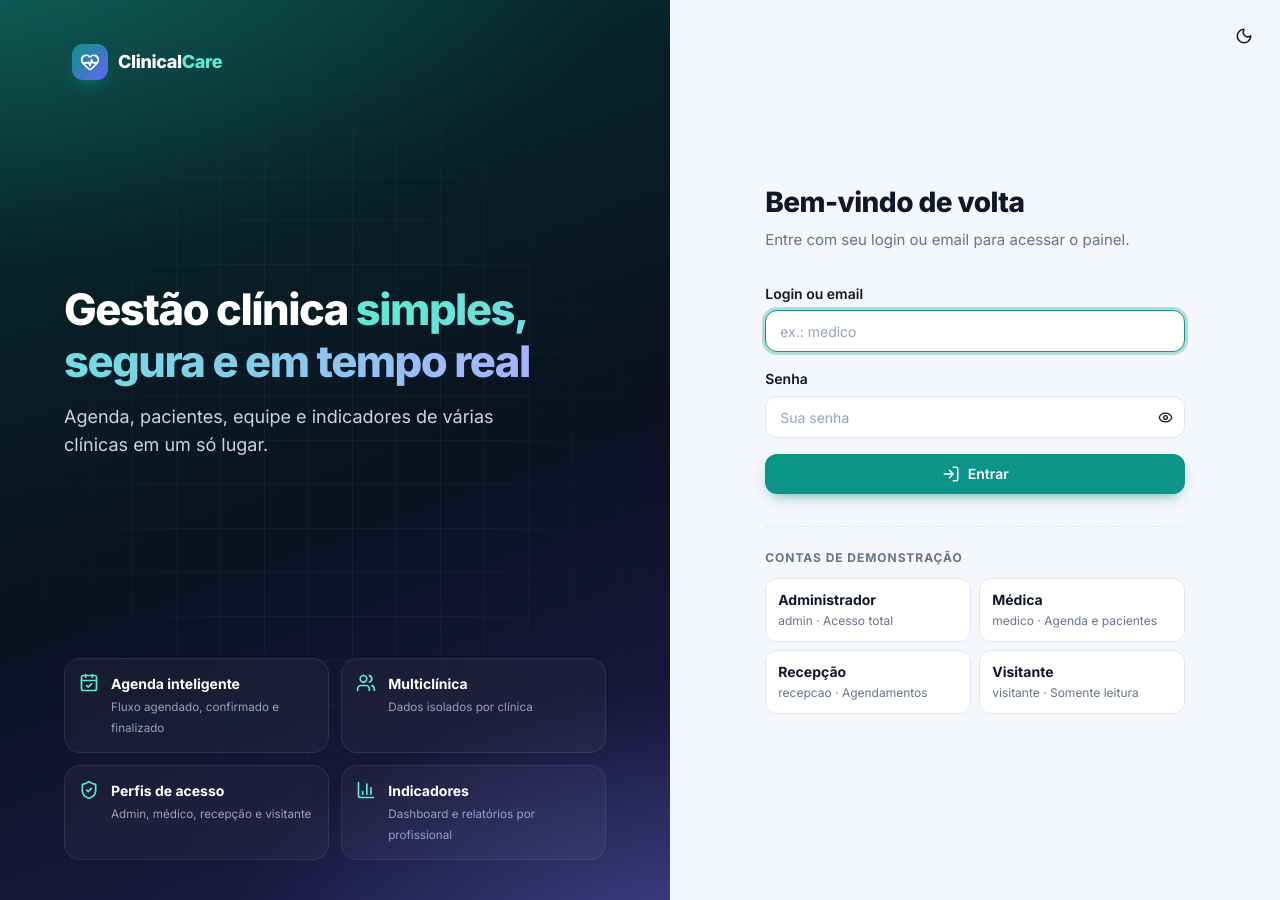
login › mostra o erro da API para credenciais inválidas
Type "medico" into the field labelled "Login ou email" at (975, 331), box [765,310,1185,352]
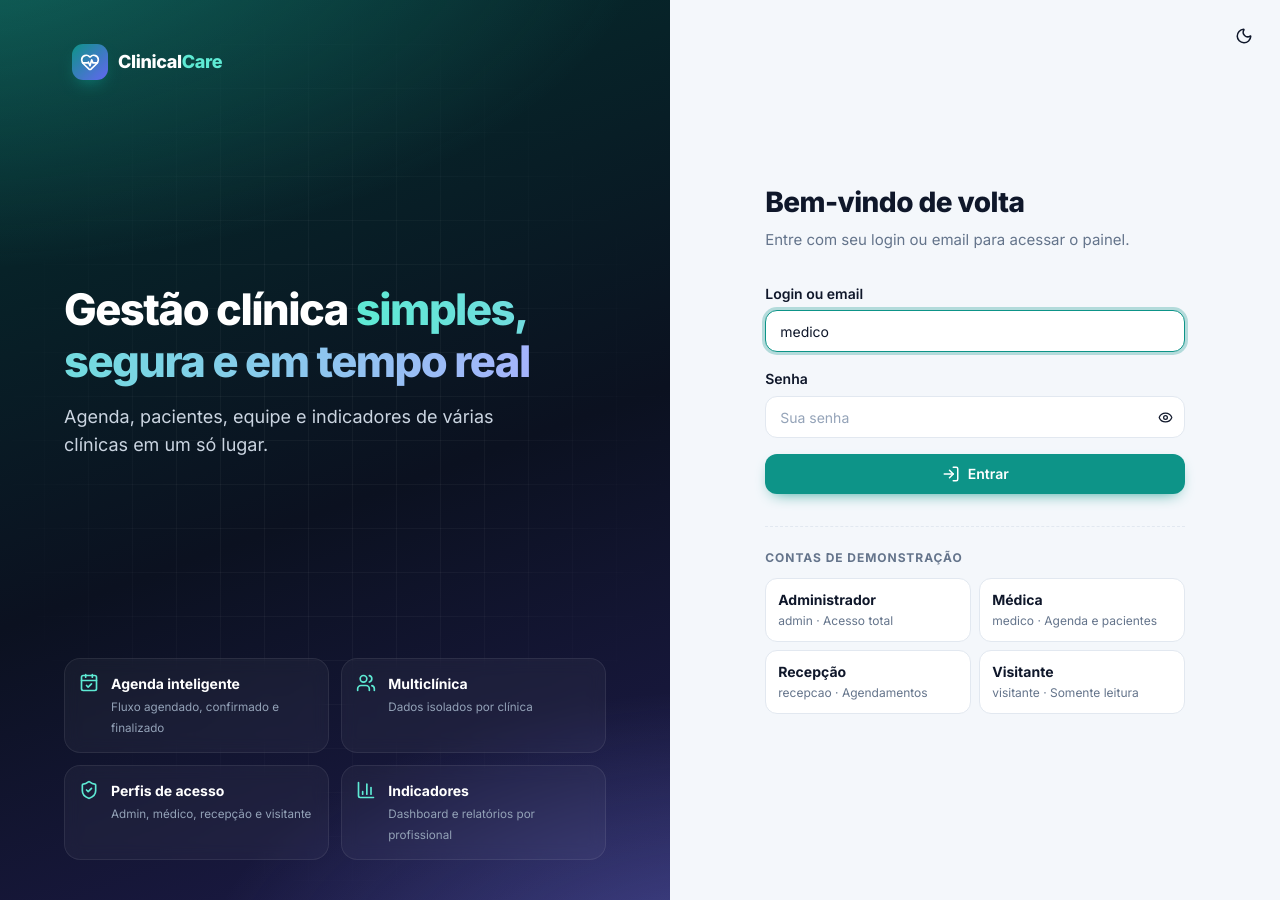
Type "senha-errada" into the password field labelled "Senha" at (975, 417), box [765,396,1185,438]
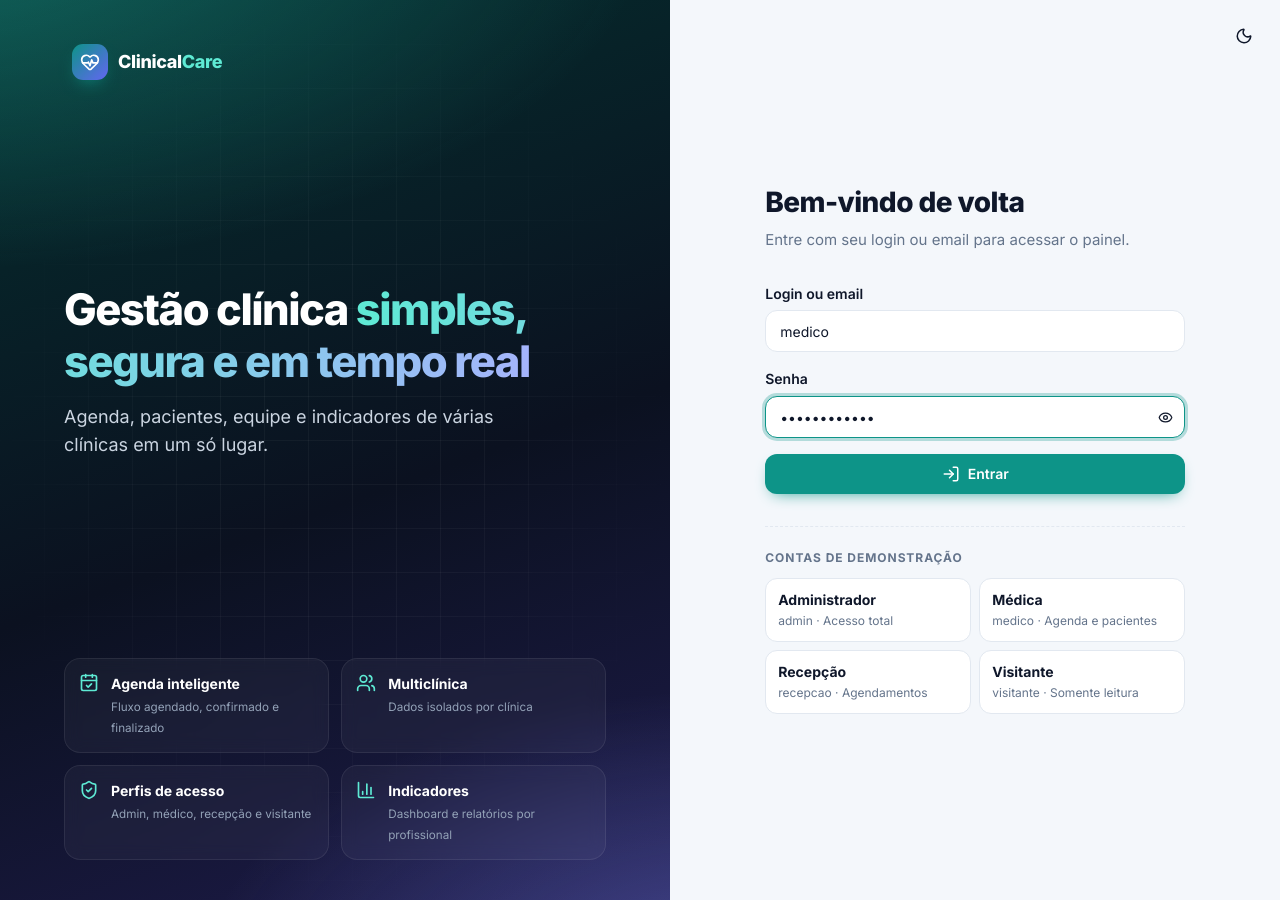
Click the button "Entrar" at (975, 474), box [765,454,1185,494]
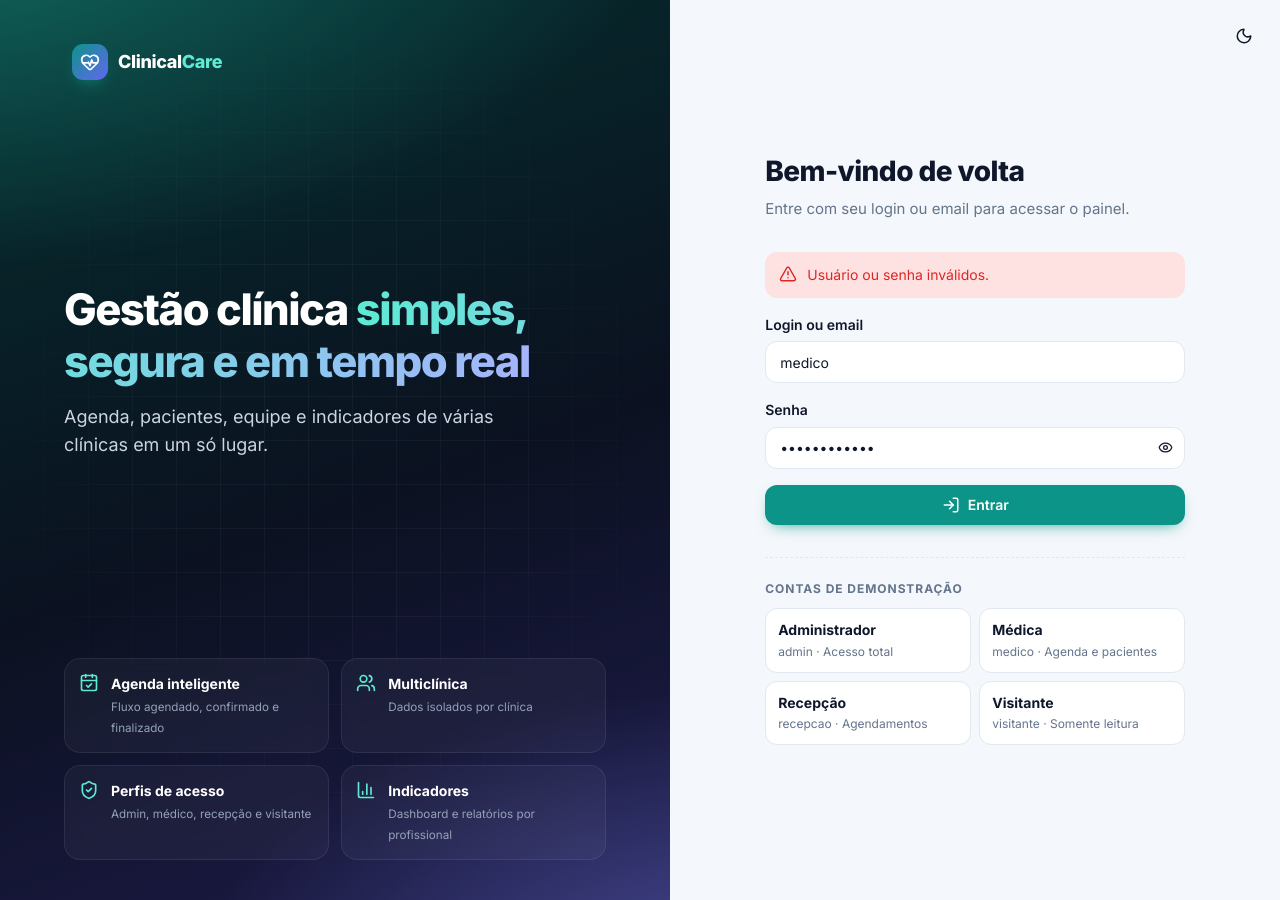
expect the text "Usuário ou senha inválidos." is shown: met, box [807,264,989,286]
